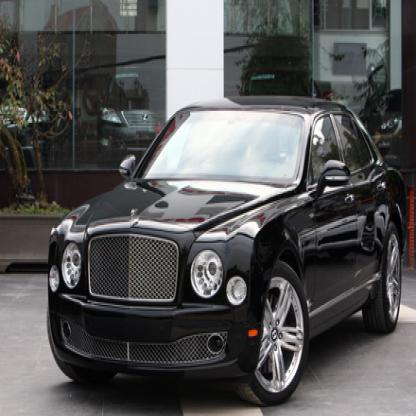Vehicle: (47, 98, 403, 402)
